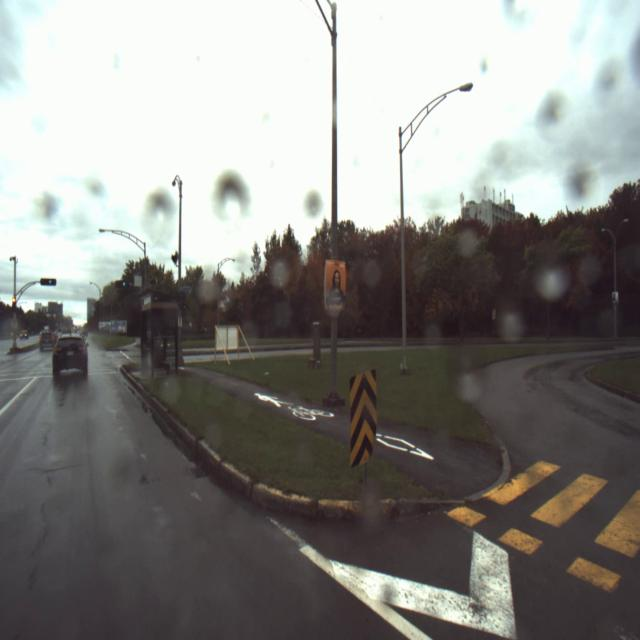car: (52, 334, 90, 379), (38, 327, 54, 352), (19, 329, 29, 340)
trafficLight: (12, 296, 17, 307)
trafficLight-Green: (46, 278, 54, 285), (121, 280, 128, 288)
